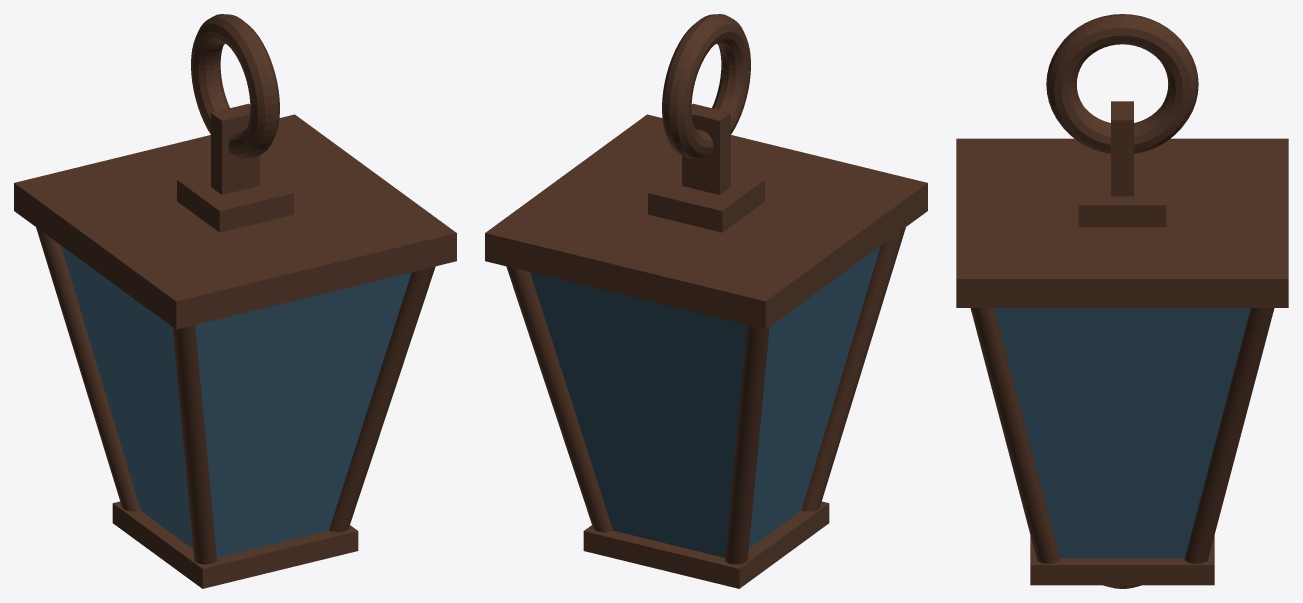
The model's file is Antorcha.fbx.
3 views of the same model, side by side, from view 1: azimuth 30°, elevation 25°; view 2: azimuth 150°, elevation 25°; view 3: azimuth 270°, elevation 25° (orthographic). The views are drawn at different scales.
Visible parts, largest first — view 1: Cube.001, Cube, Cylinder, Torus, Cube.002; view 2: Cube.001, Cube, Cylinder, Torus, Cube.002; view 3: Cube.001, Cube, Cylinder, Torus, Cube.002.
Boxes of the visible parts, left/top/right/bottom form: Cube.001: left=14, top=103, right=456, bottom=329; Cube: left=61, top=245, right=411, bottom=557; Cylinder: left=36, top=227, right=435, bottom=564; Torus: left=191, top=14, right=279, bottom=158; Cube.002: left=112, top=501, right=358, bottom=588; Cube.001: left=485, top=103, right=927, bottom=329; Cube: left=530, top=245, right=880, bottom=557; Cylinder: left=506, top=227, right=905, bottom=564; Torus: left=662, top=14, right=750, bottom=158; Cube.002: left=583, top=501, right=829, bottom=588; Cube.001: left=956, top=101, right=1288, bottom=307; Cube: left=994, top=308, right=1250, bottom=558; Cylinder: left=970, top=308, right=1274, bottom=563; Torus: left=1046, top=14, right=1198, bottom=153; Cube.002: left=1030, top=535, right=1214, bottom=585.
Size of the model in its own units: 436 by 823 by 436.
